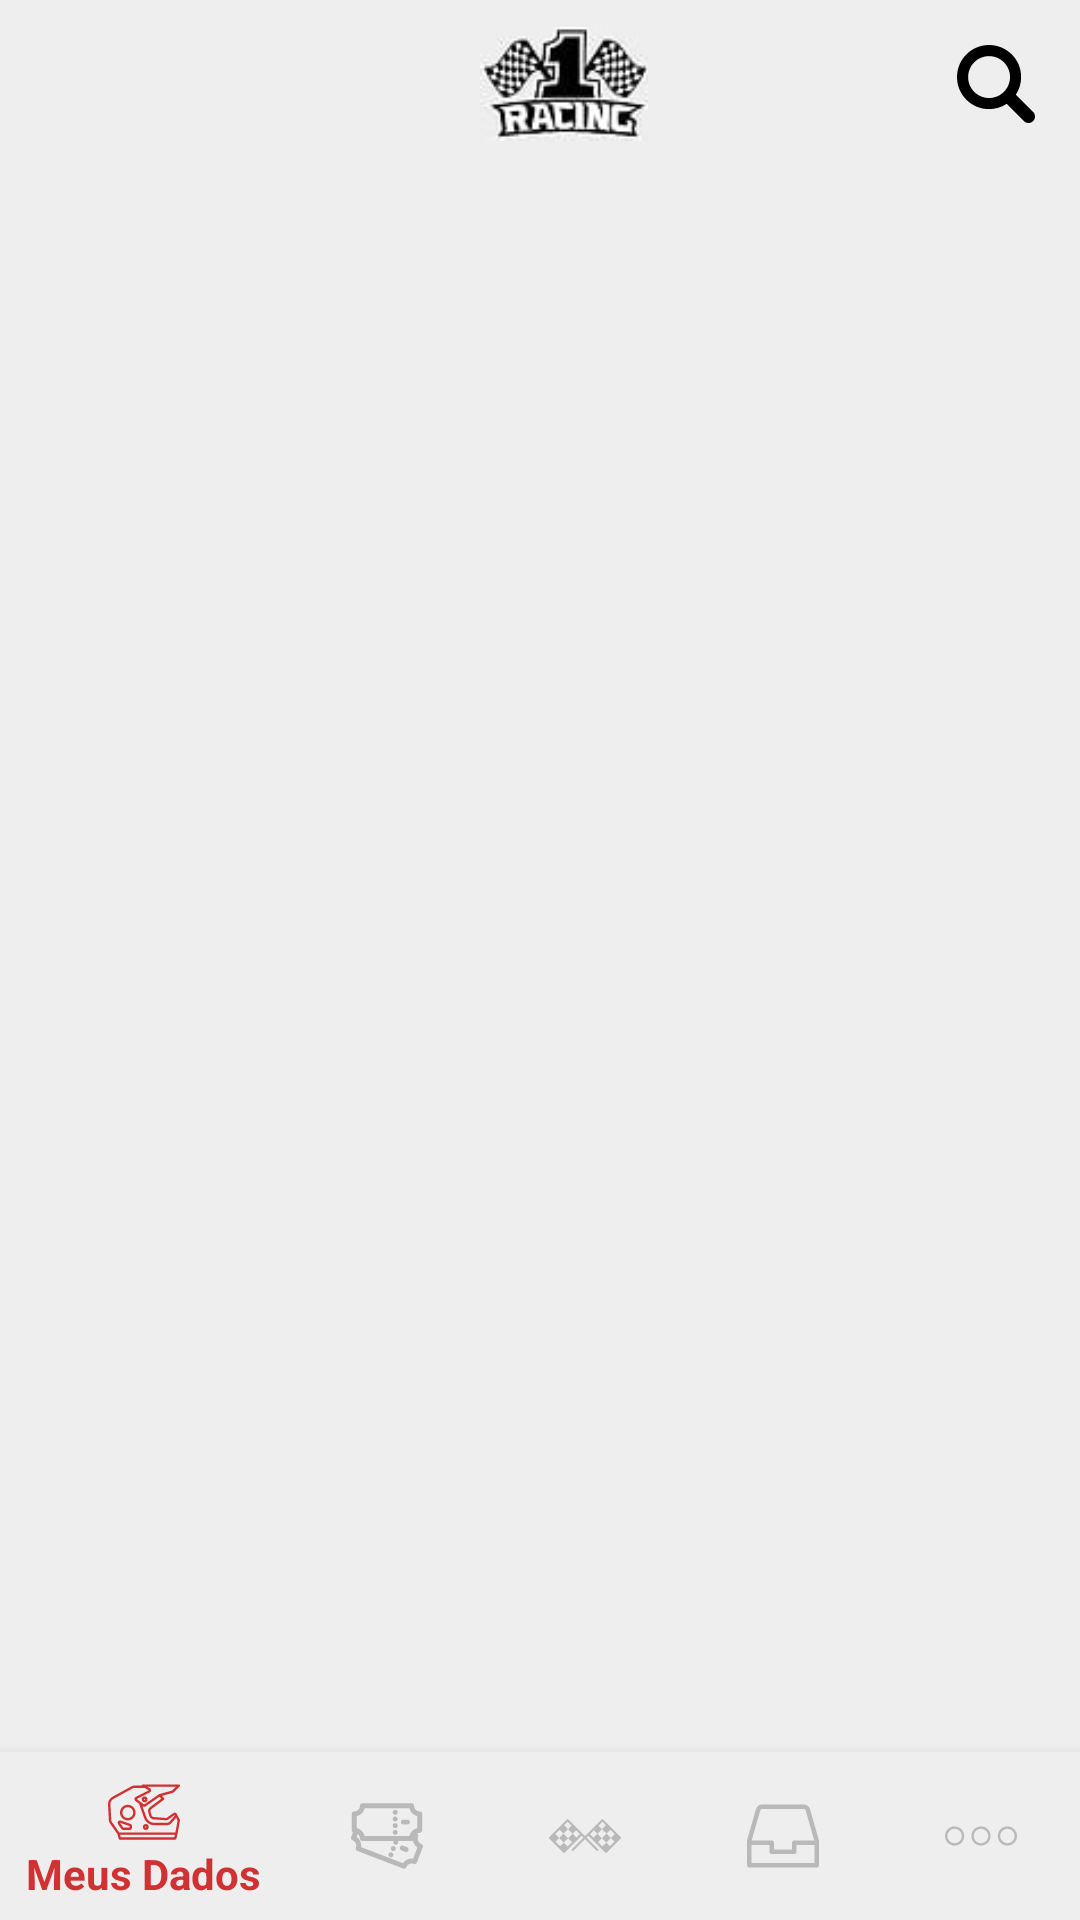

Where icons sit on this 1080*1920 app screen, as (x1, y1, x2, y2):
search: (957, 45, 1035, 123)
